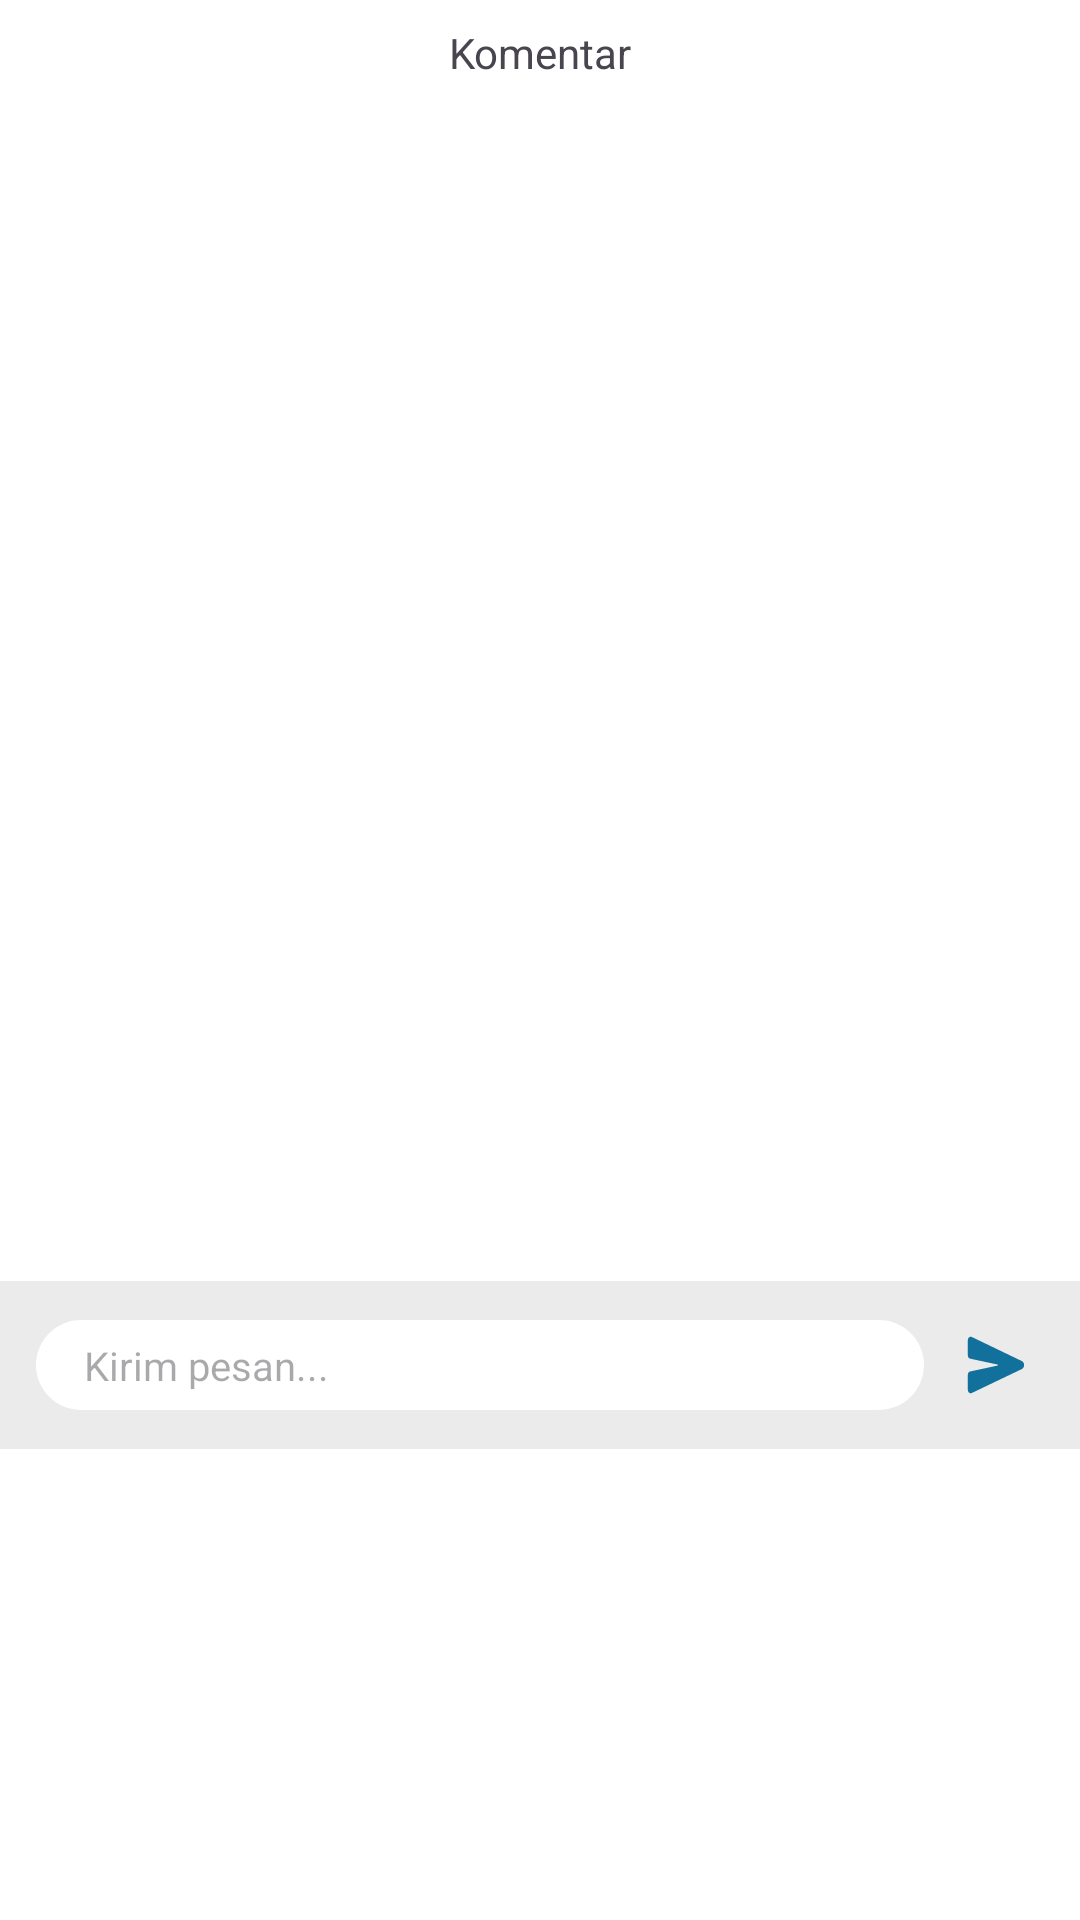

Icons on this 1080px×1920px Android screen, each with the point to tap as (x,y):
send: (995,1365)
